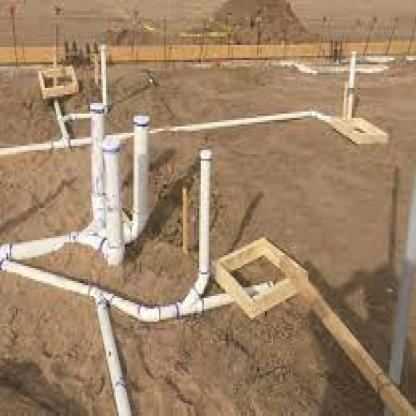PVC: (0, 115, 273, 414), (0, 46, 355, 154), (389, 170, 414, 384)
